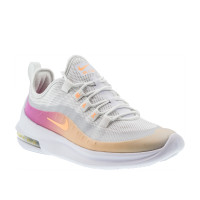nike: (45, 116, 70, 132)
